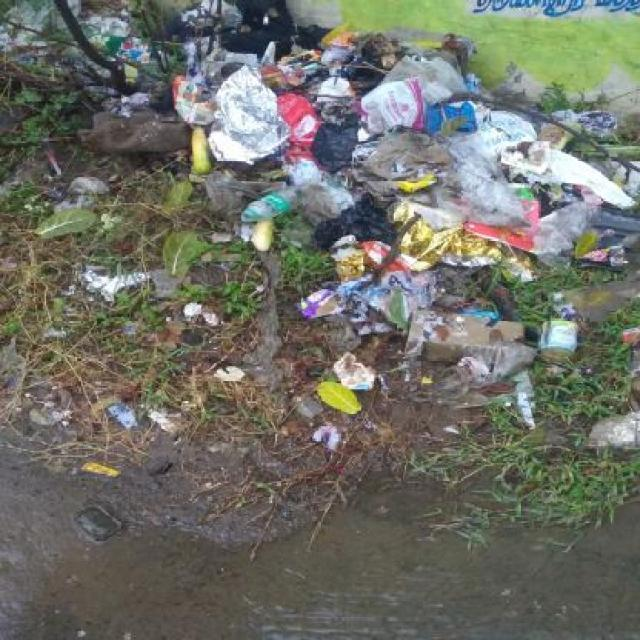garbage: (16, 12, 622, 458), (65, 483, 165, 558)
